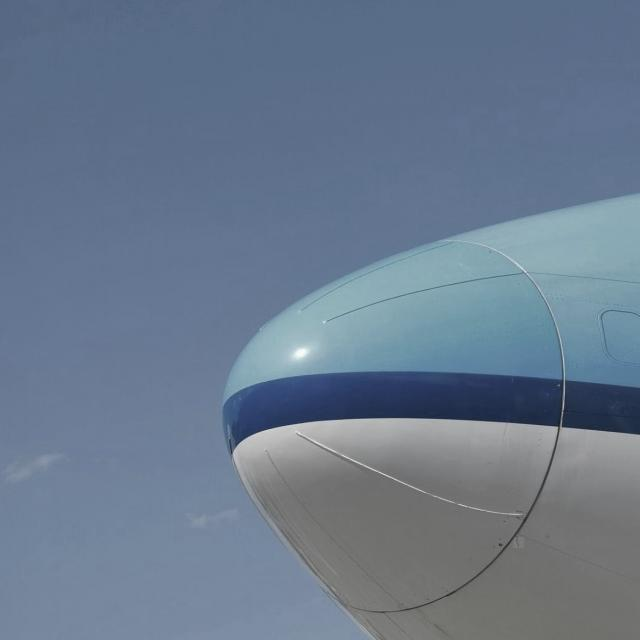crack: (514, 538, 525, 549)
